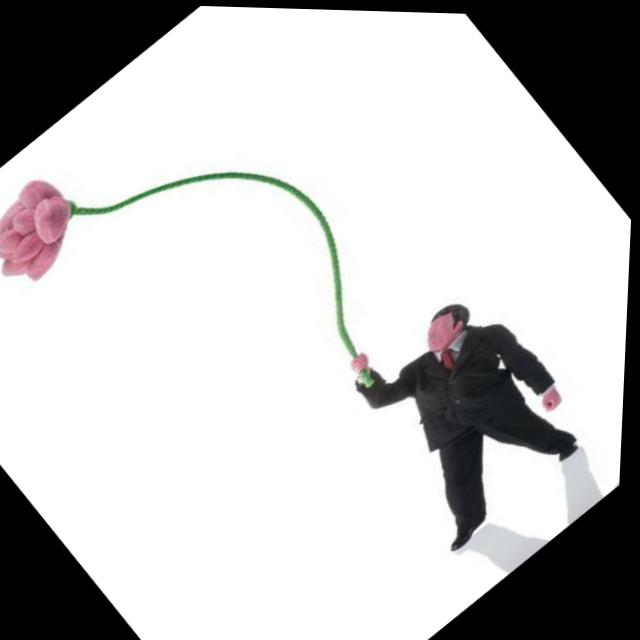Flower: (0, 158, 114, 318)
